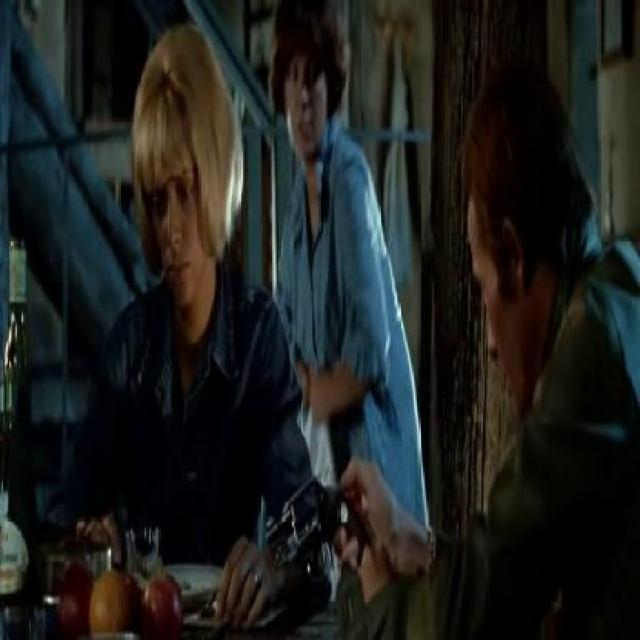gun: (264, 460, 404, 617)
